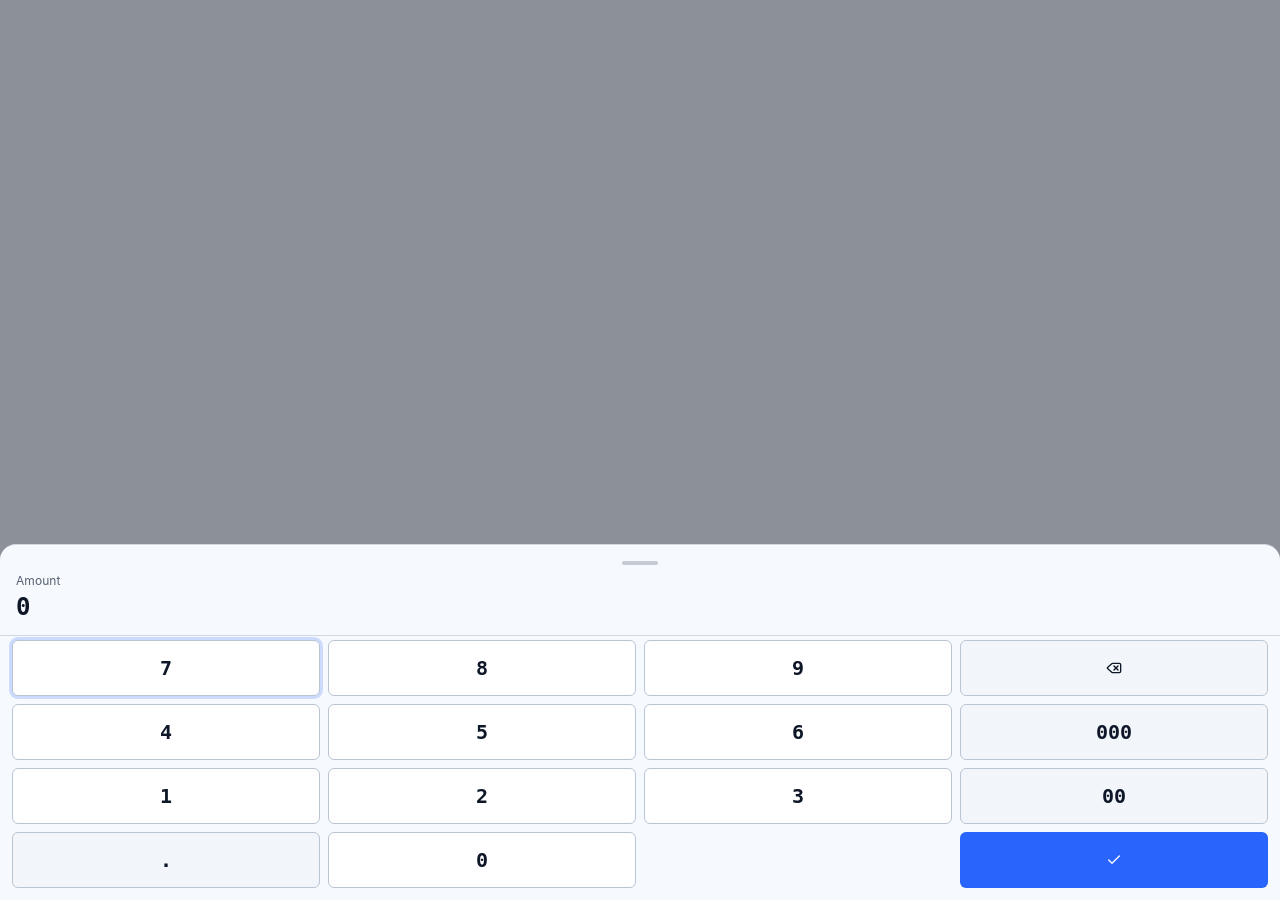
Test case: NumericKeypad › only commits to the field on confirm
The width and height of the screenshot is (1280, 900).
Click the button "4" at (166, 732), box [12,704,320,760]
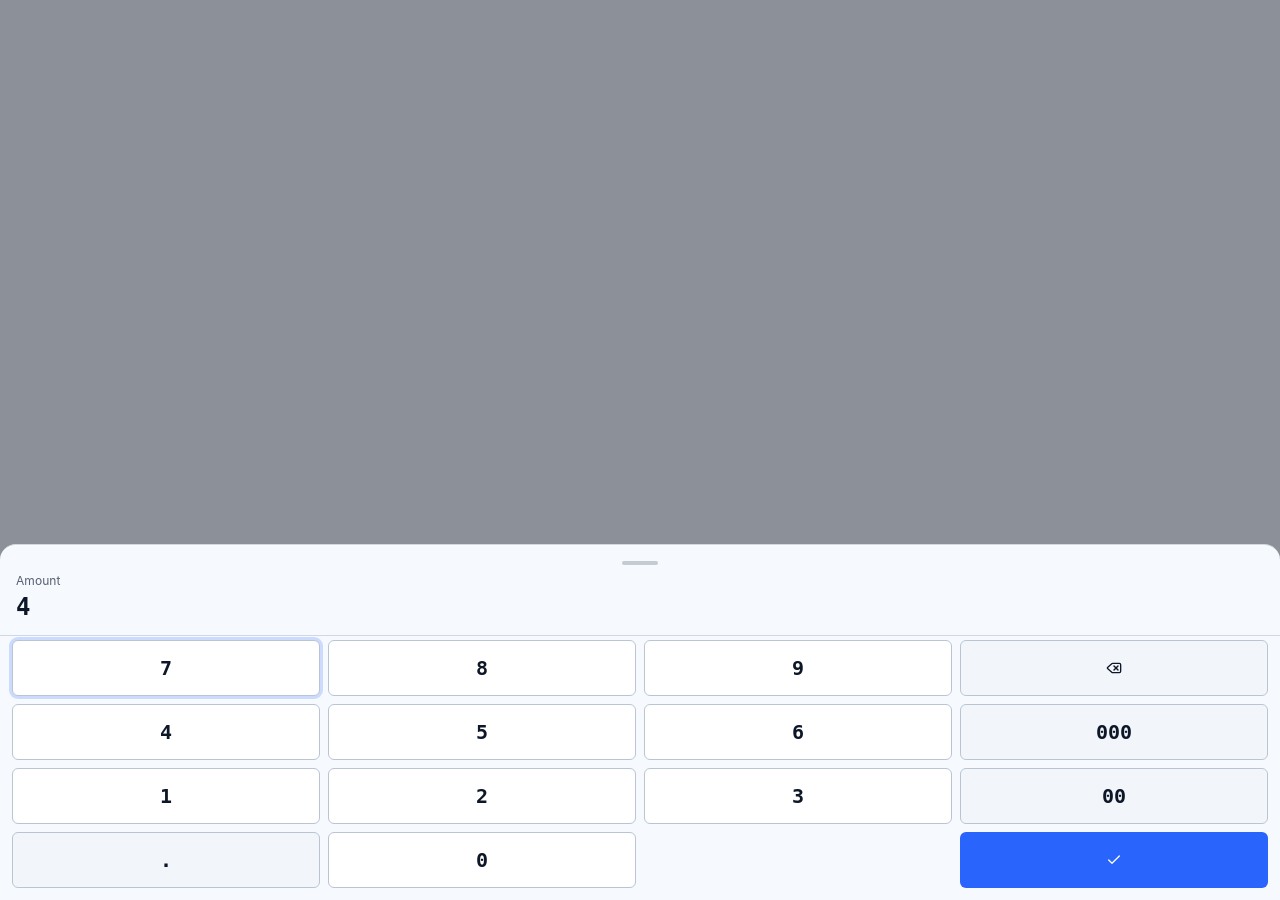
Click the button named "confirm" at (1114, 860), box [960,832,1268,888]
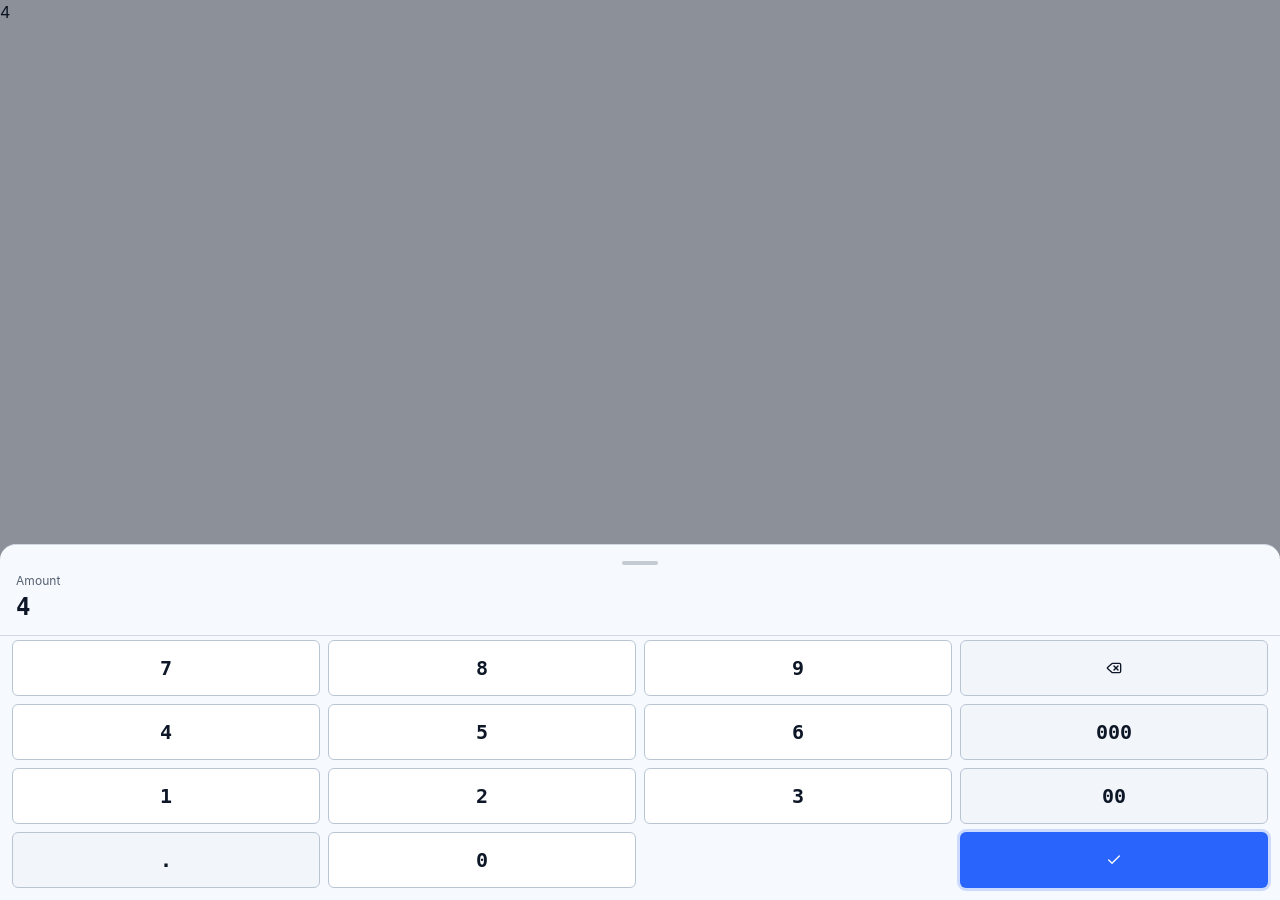
Check: the 1st text "4" is shown, box [0,2,10,22]
